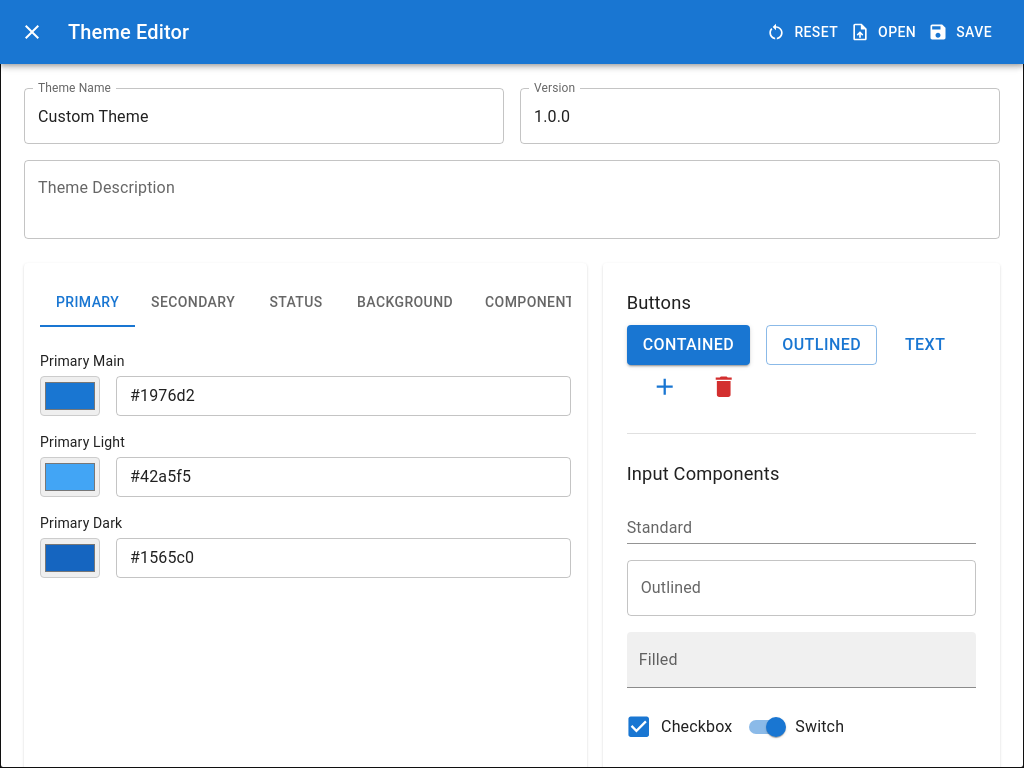
Test: ThemeEditorDialog - Overwrite File Functionality › should show correct button labels in overwrite dialog
Note: Set theme name
Replace the text in the field labelled "Theme Name" with "My Theme" at (264, 116), box [24,88,504,144]
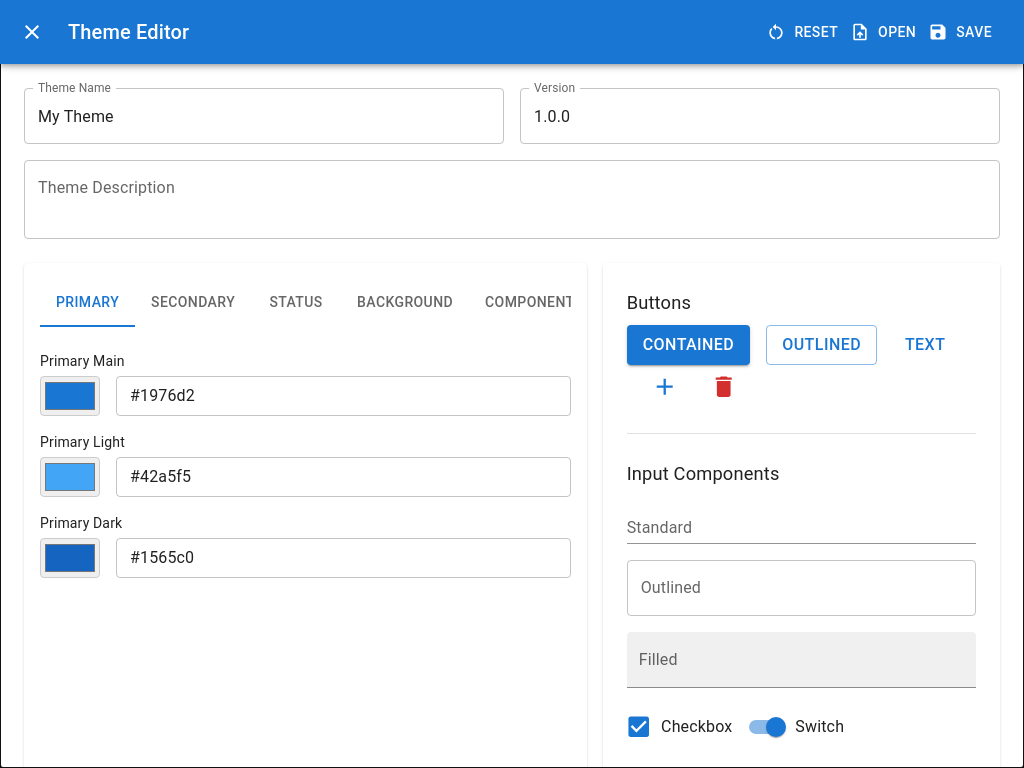
Note: Click Save button
Click the button "Save" at (962, 32), box [924,14,1000,50]
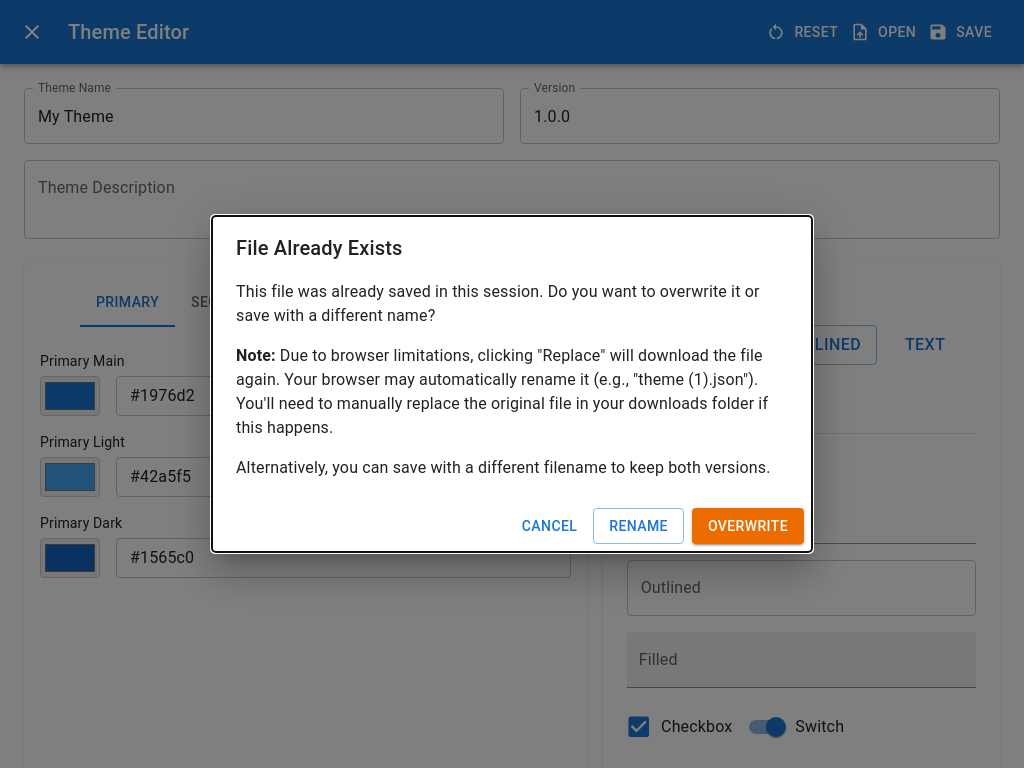
Check: the heading "File Already Exists" is shown, box [236,236,402,260]
Check: the button "Overwrite" is shown, box [692,508,804,544]
Check: the button "Rename" is shown, box [593,508,684,544]
